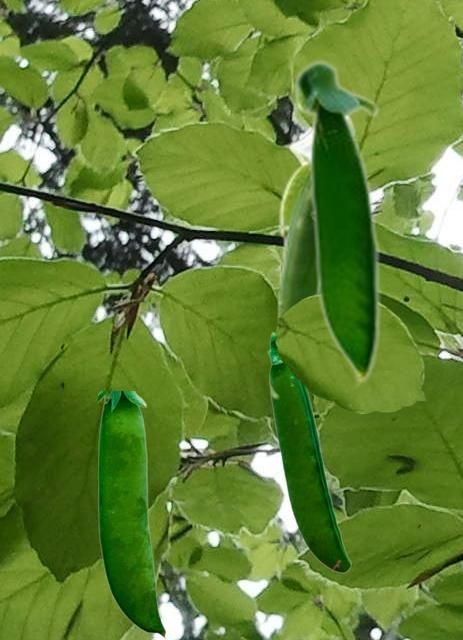pea: (292, 58, 380, 388), (267, 331, 350, 572), (98, 391, 165, 638), (276, 115, 355, 319)
